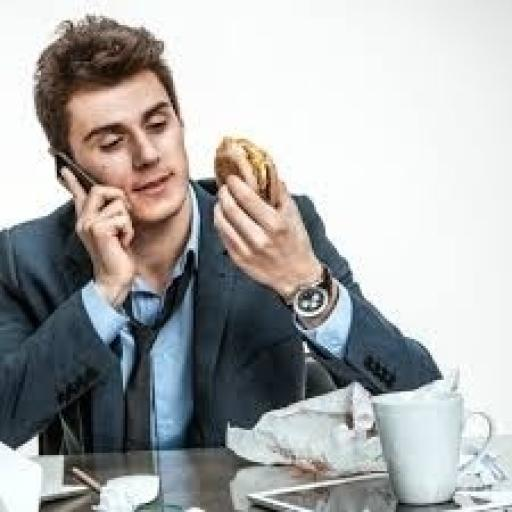eating: (0, 11, 446, 455)
